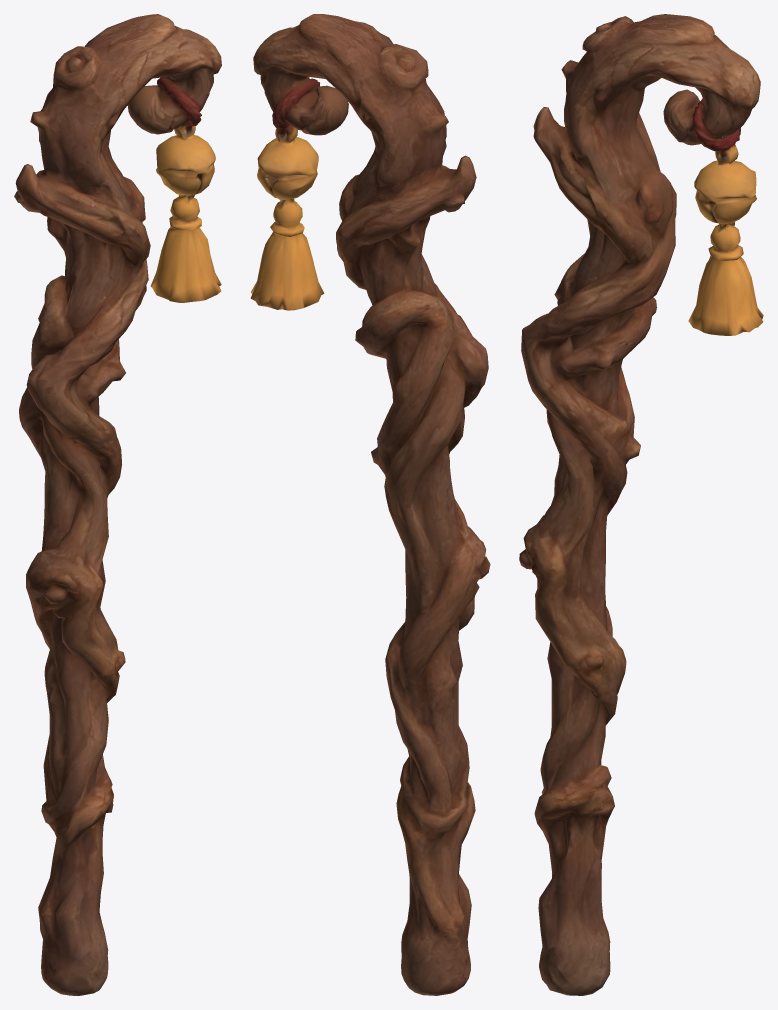
File: baston_marimanta.glb
The picture shows the model from 3 angles, left to right: view 1: azimuth 30°, elevation 25°; view 2: azimuth 150°, elevation 25°; view 3: azimuth 330°, elevation 25°; orthographic projection. The views are drawn at different scales.
Visible parts, largest first — view 1: tripo_node_129bb599-cc6b-4eee-bffd-09ccd0542ceb; view 2: tripo_node_129bb599-cc6b-4eee-bffd-09ccd0542ceb; view 3: tripo_node_129bb599-cc6b-4eee-bffd-09ccd0542ceb.
Part boxes in pixels (x1,y1,x2,y2): tripo_node_129bb599-cc6b-4eee-bffd-09ccd0542ceb: (14,14,221,995); tripo_node_129bb599-cc6b-4eee-bffd-09ccd0542ceb: (250,14,490,995); tripo_node_129bb599-cc6b-4eee-bffd-09ccd0542ceb: (519,14,763,995).
Bounding box in the file's own units: 0.226 × 0.9805 × 0.119.
Materials: 1 (1 with a texture image).
